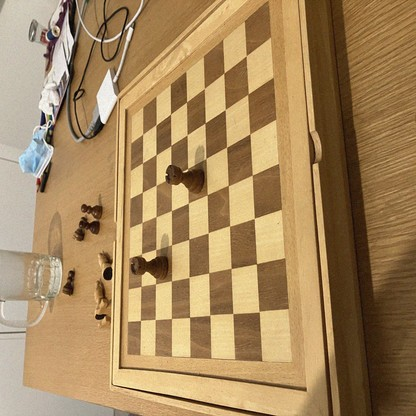bishop_white: (96, 280, 108, 320)
knight_white: (98, 299, 114, 318), (98, 317, 113, 329)
pawn_black: (74, 216, 87, 243), (80, 219, 100, 233), (62, 270, 73, 294), (82, 204, 101, 217)
queen_white: (98, 253, 114, 280)
rock_black: (166, 166, 206, 193), (131, 258, 168, 279)
